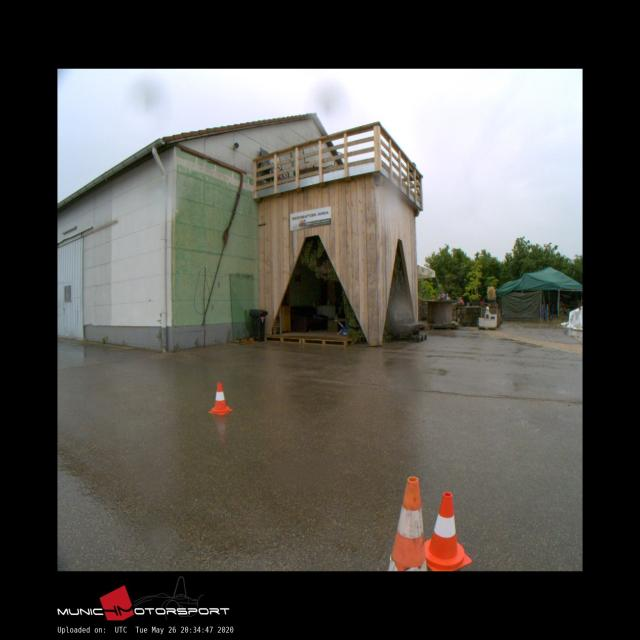orange_cone: (424, 492, 472, 571), (208, 382, 232, 413)
